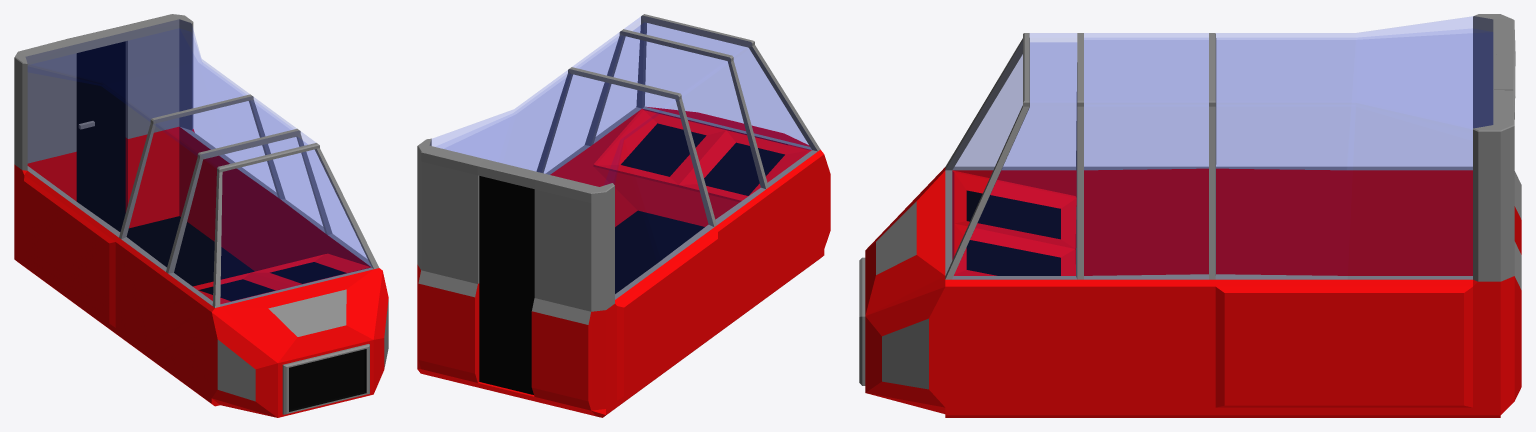
File: Cockpit 1.fbx
3 renders of one model, left to right at view 1: azimuth 30°, elevation 25°; view 2: azimuth 150°, elevation 25°; view 3: azimuth 270°, elevation 25°, orthographic. The views are drawn at different scales.
Parts seen in each view (by area): view 1: cockpit; view 2: cockpit; view 3: cockpit.
Boxes of the visible parts, bbox=[...] form: cockpit: bbox=[14, 14, 388, 417]; cockpit: bbox=[417, 14, 830, 417]; cockpit: bbox=[859, 14, 1521, 417].
Bounding box in the file's own units: 10.38 × 11.98 × 23.85.
